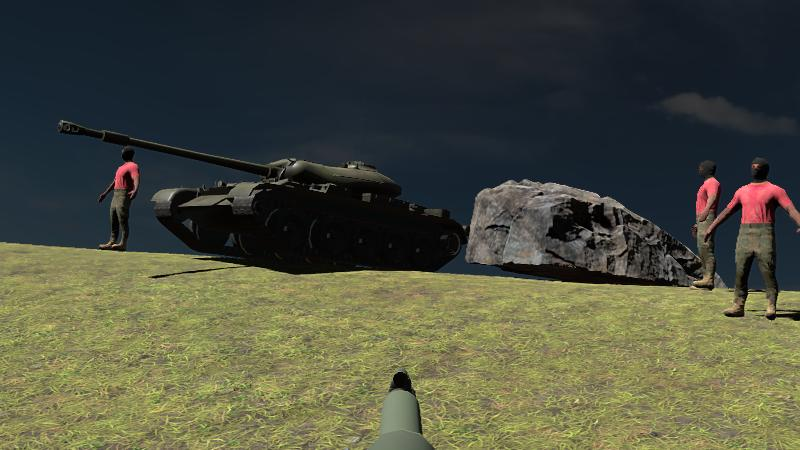Human: (707, 156, 800, 321), (98, 146, 139, 252), (692, 158, 721, 290)
Tank: (59, 122, 468, 271)
